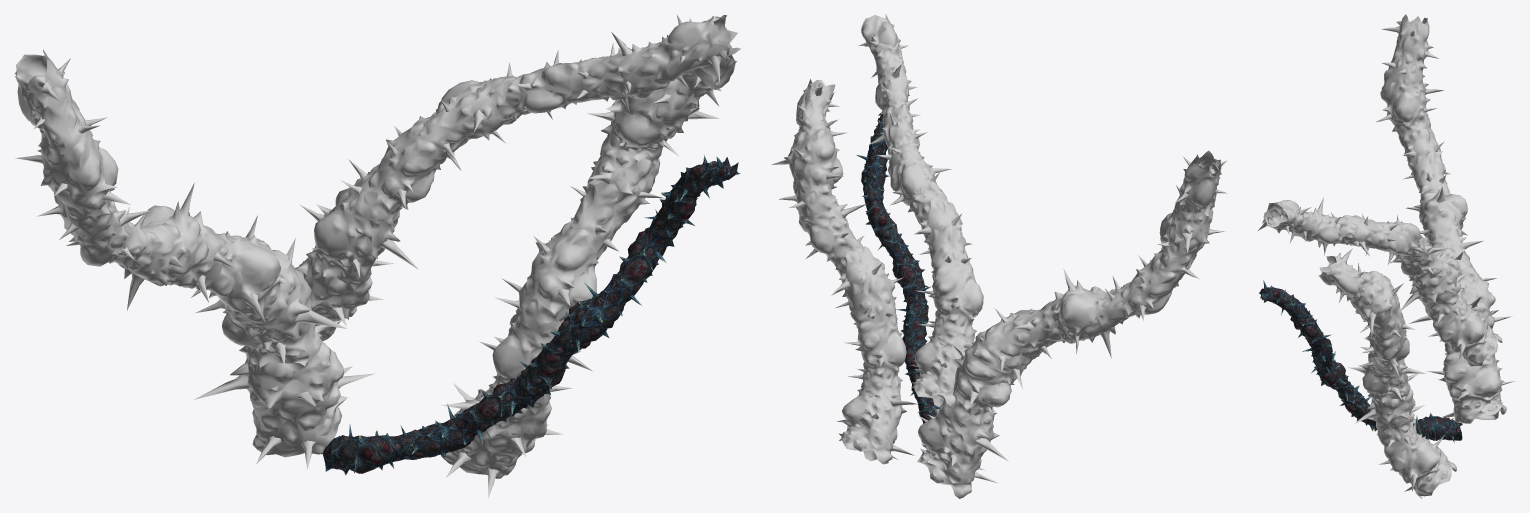
The model's file is backup.fbx.
The picture shows the model from 3 angles, left to right: view 1: azimuth 30°, elevation 25°; view 2: azimuth 150°, elevation 25°; view 3: azimuth 270°, elevation 25°; orthographic projection. The views are drawn at different scales.
Visible parts, largest first — view 1: LODGroup_1_MainMesh_1_SubMesh_2, LODGroup_1_MainMesh_1_SubMesh_1; view 2: LODGroup_1_MainMesh_1_SubMesh_2, LODGroup_1_MainMesh_1_SubMesh_1; view 3: LODGroup_1_MainMesh_1_SubMesh_2, LODGroup_1_MainMesh_1_SubMesh_1.
Part boxes in pixels (left/top/right/bottom): LODGroup_1_MainMesh_1_SubMesh_2: left=14, top=14, right=741, bottom=497; LODGroup_1_MainMesh_1_SubMesh_1: left=322, top=155, right=740, bottom=475; LODGroup_1_MainMesh_1_SubMesh_2: left=771, top=14, right=1227, bottom=498; LODGroup_1_MainMesh_1_SubMesh_1: left=856, top=113, right=939, bottom=423; LODGroup_1_MainMesh_1_SubMesh_2: left=1258, top=14, right=1515, bottom=498; LODGroup_1_MainMesh_1_SubMesh_1: left=1259, top=279, right=1462, bottom=442.
Size of the model in its own units: 1688 by 1315 by 897.
